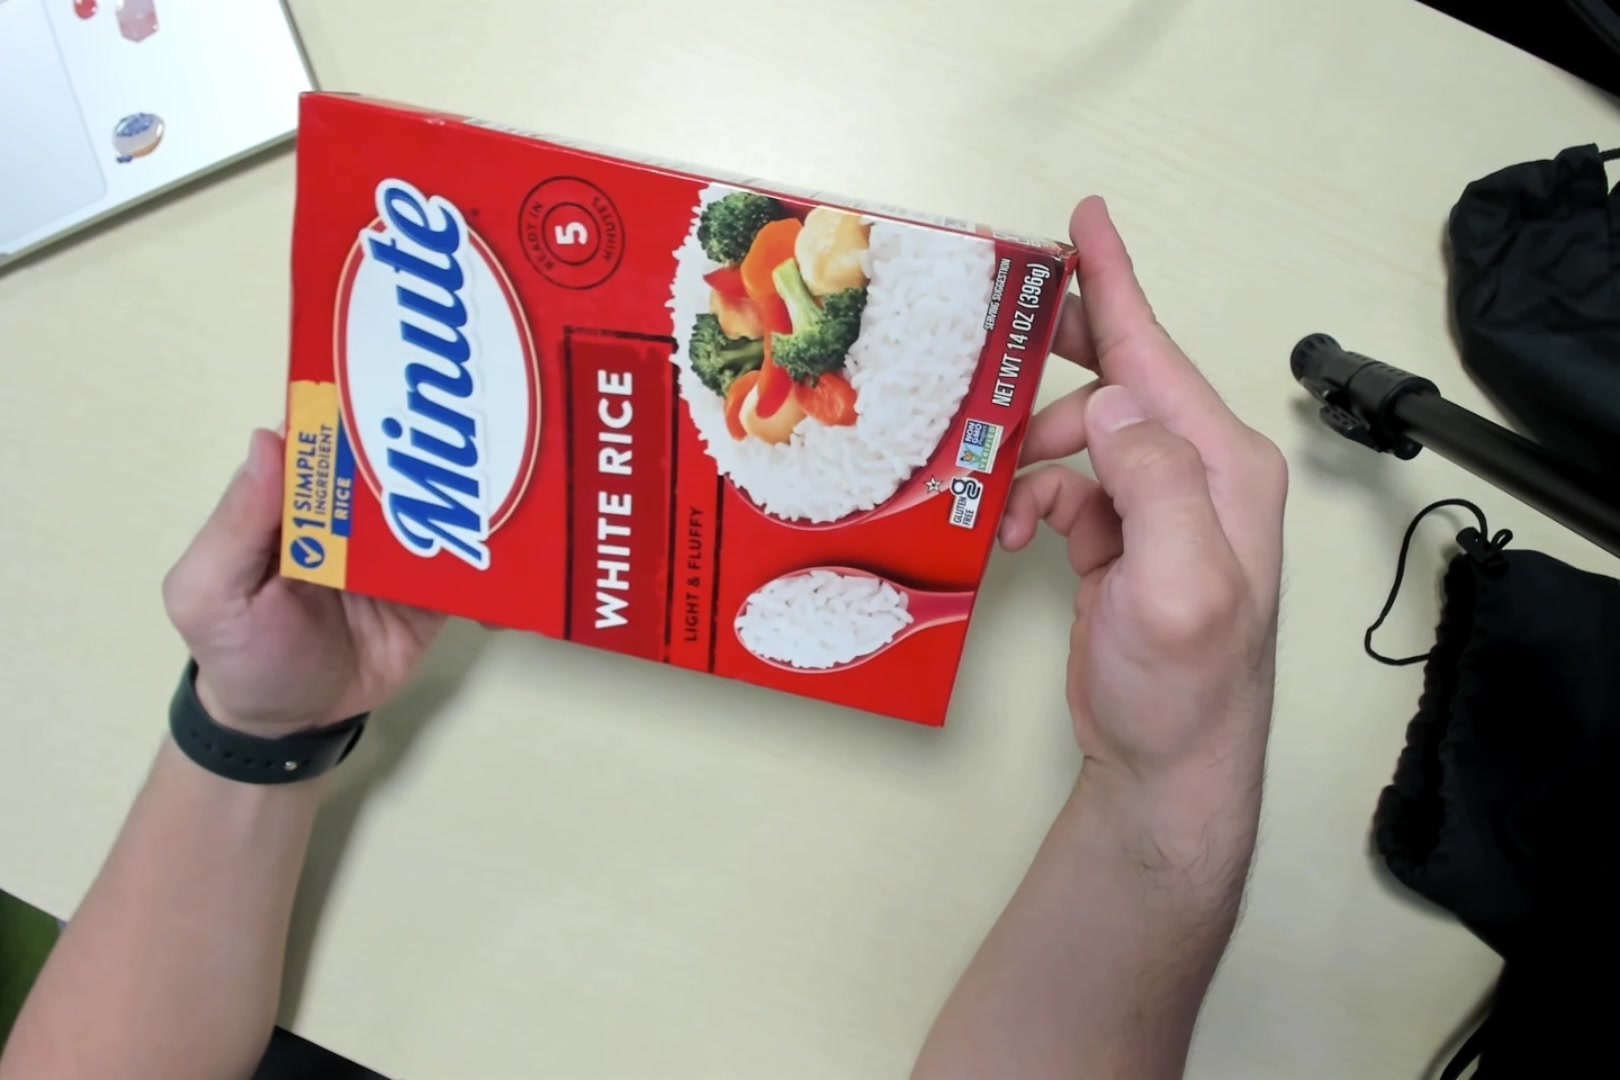Rice(White)_300-399g_NonHalal_NonHealthy: (284, 90, 1078, 742)
